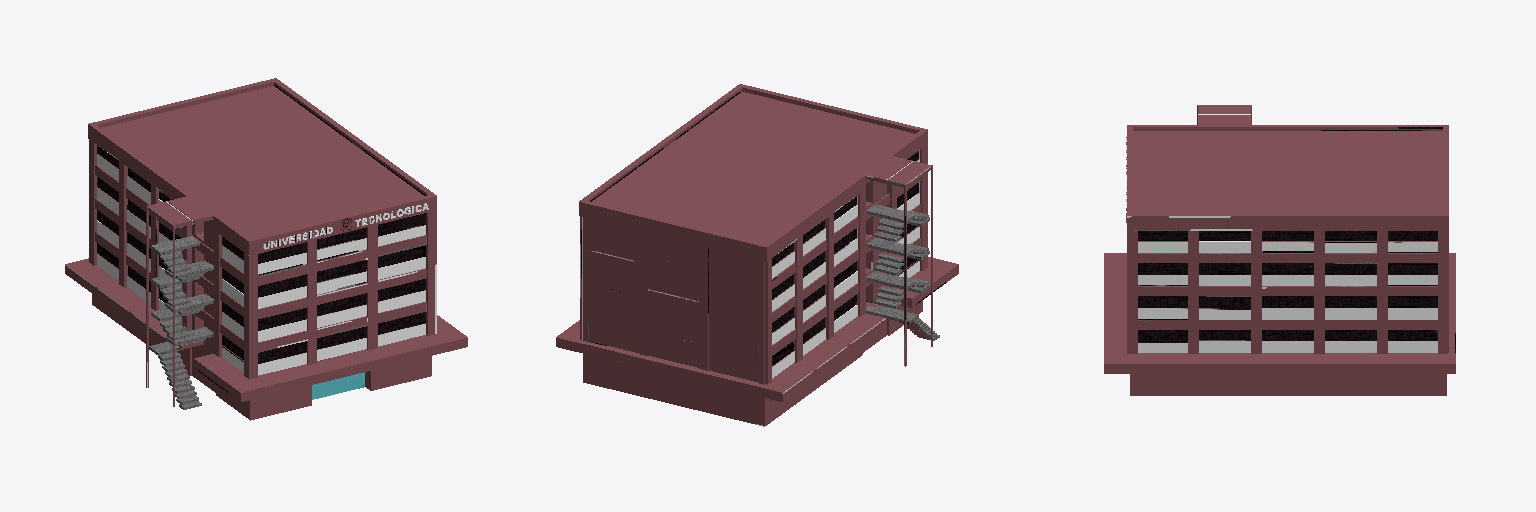
3 renders of one model, left to right at view 1: azimuth 30°, elevation 25°; view 2: azimuth 150°, elevation 25°; view 3: azimuth 270°, elevation 25°, orthographic.
Visible parts, largest first — view 1: Morazan_v21; view 2: Morazan_v21; view 3: Morazan_v21.
Part boxes in pixels (x1,y1,x2,y2): Morazan_v21: (65,78,467,420); Morazan_v21: (556,84,958,426); Morazan_v21: (1104,105,1455,395).
Size of the model in its own units: 546 by 381 by 670.
1 materials, 1 textured.